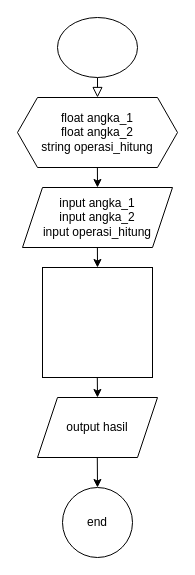
This 195x575 diagram has some shape labels left out. The shapes that lost their labels are listed below. From the top down, each one's centre as x and y in pixels, then its label:
the point at 97,47: start
the point at 97,322: hasil=
